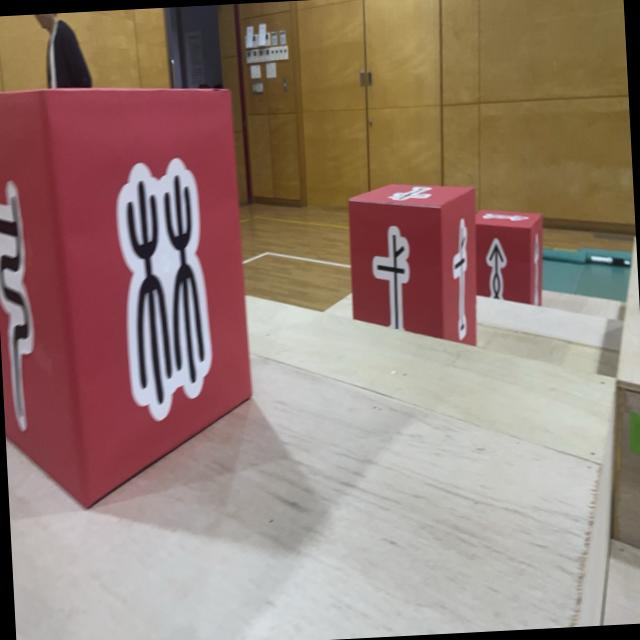12: (484, 236, 510, 302), (482, 209, 530, 225)
2: (111, 154, 217, 424)
4: (0, 177, 41, 434)
9: (370, 224, 414, 332), (449, 218, 474, 342), (387, 185, 433, 202)
fighter: (0, 78, 258, 515), (348, 177, 483, 350), (472, 205, 548, 310)
